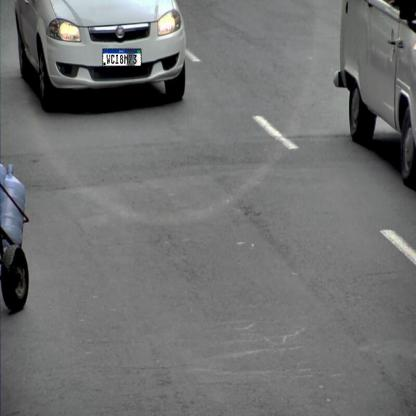PlacaM: (102, 48, 142, 66)
